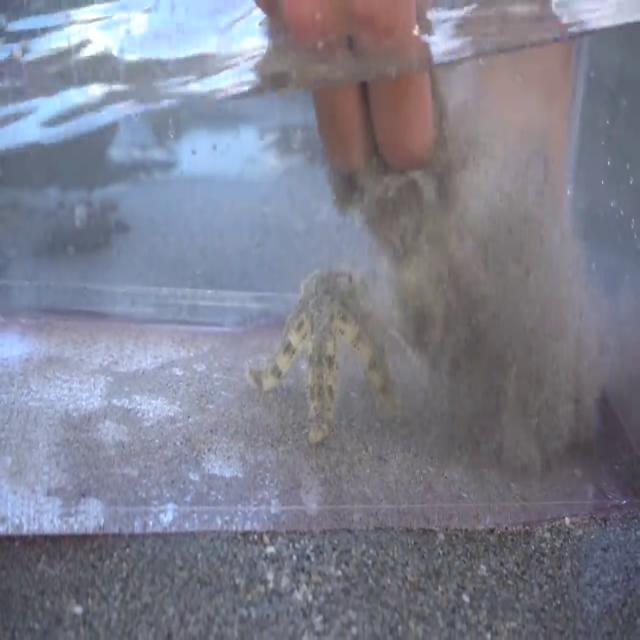octopus: (250, 254, 402, 447)
